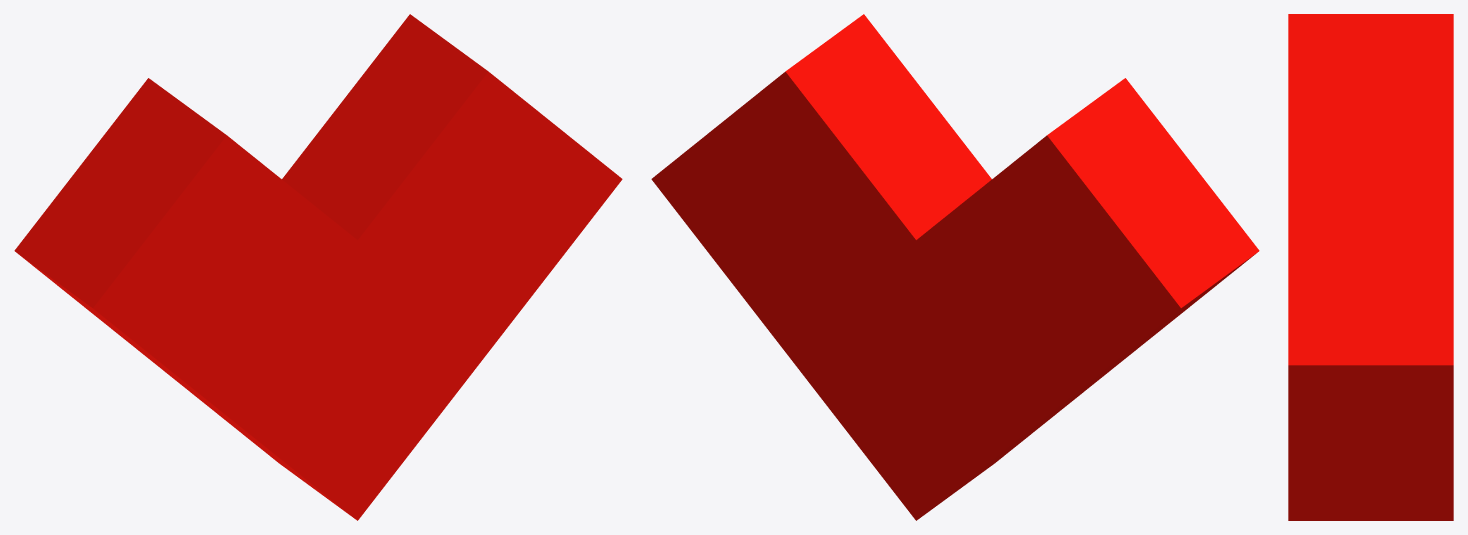
Rendered from Heart.fbx.
3 renders of one model, left to right at view 1: azimuth 30°, elevation 25°; view 2: azimuth 150°, elevation 25°; view 3: azimuth 270°, elevation 25°, orthographic. The views are drawn at different scales.
Parts seen in each view (by area): view 1: Cube.011; view 2: Cube.011; view 3: Cube.011.
Part boxes in pixels (x1,y1,x2,y2): Cube.011: [14, 14, 622, 520]; Cube.011: [651, 14, 1259, 520]; Cube.011: [1288, 14, 1453, 520].
Bounding box in the file's own units: 66.06 × 49.76 × 16.96.
